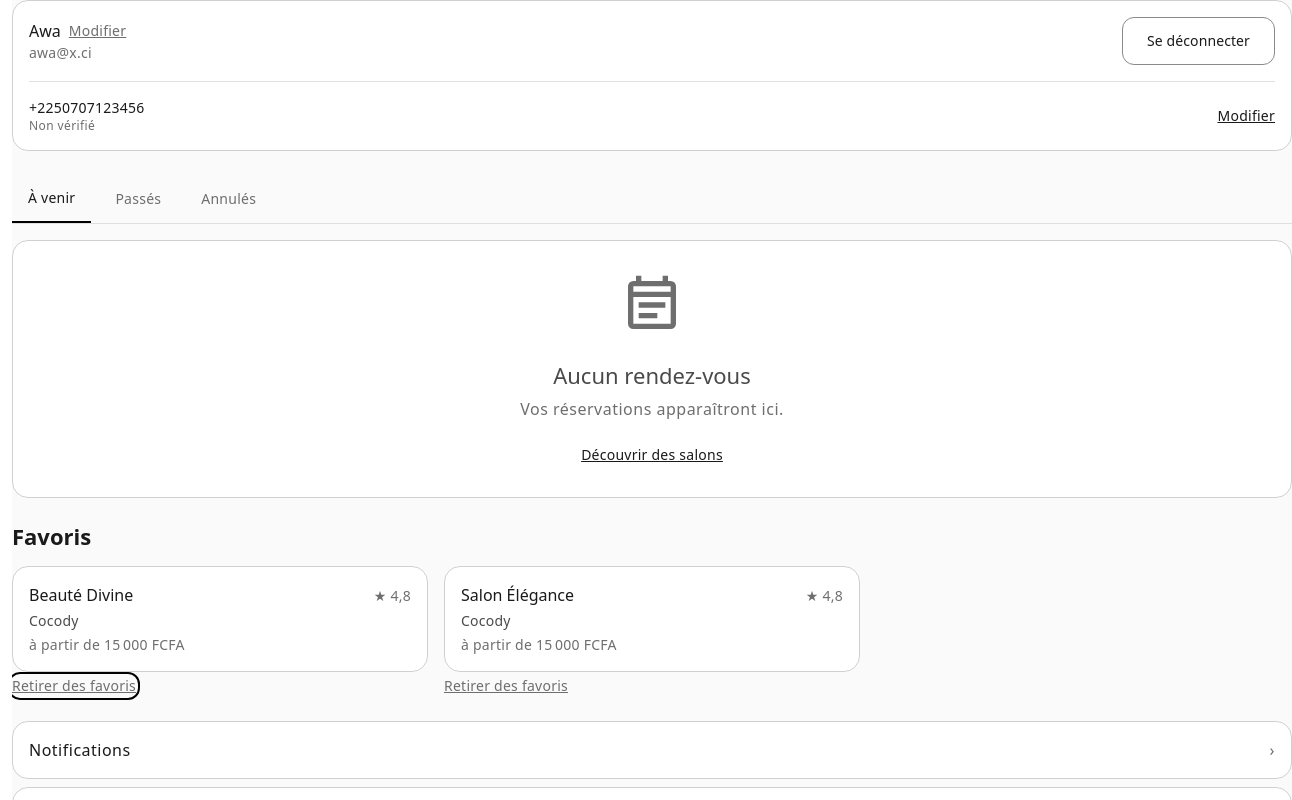
Test: Mon compte — « Retirer des favoris » (docs/design/web-consumer-optimistic-revert.md §3.2 ①) › focus fell with the card: it comes back on that card’s « Retirer des favoris »
Check: the heading "Beauté Divine" is shown, box [29, 583, 133, 607]
Step 1. Click the button "Retirer des favoris" below "Beauté Divine" → (74, 686), box [12, 676, 136, 696]
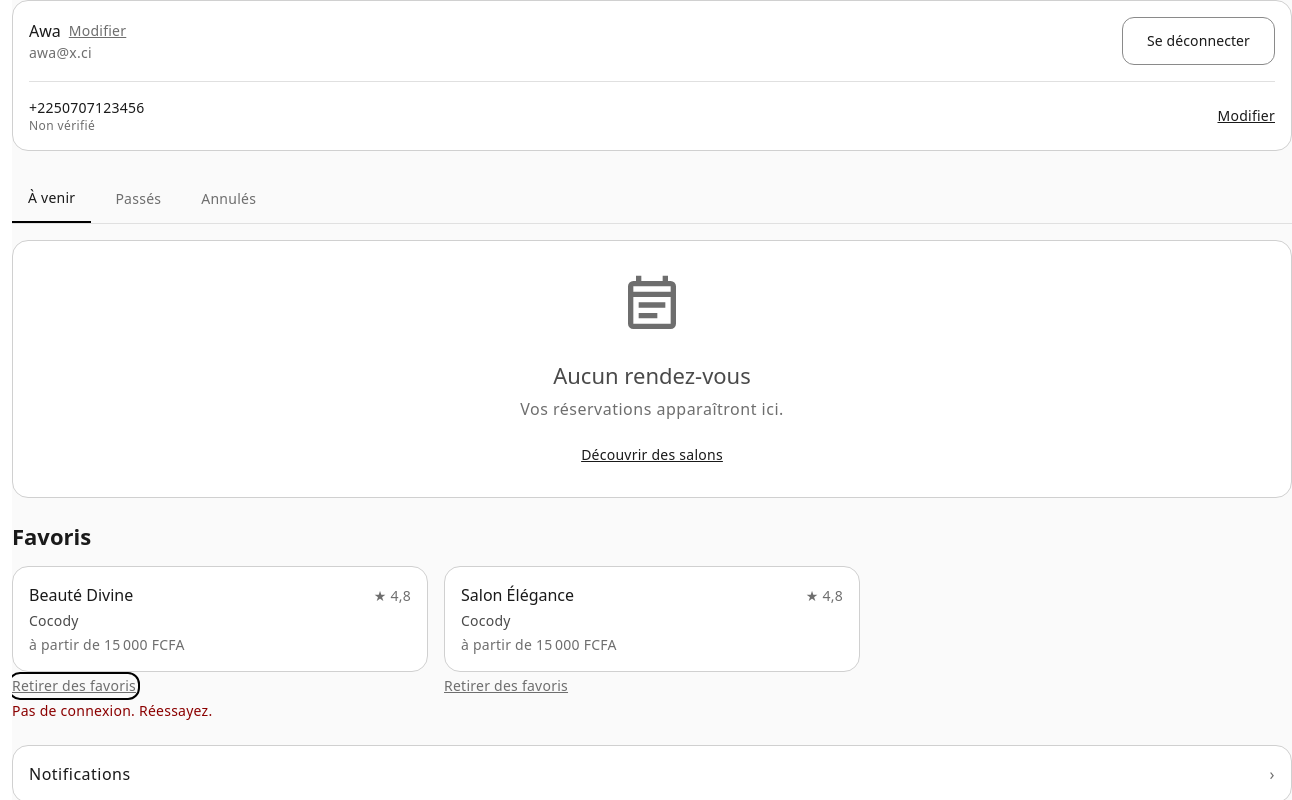
Check: the message "Pas de connexion. Réessayez." is shown, box [12, 701, 212, 720]
